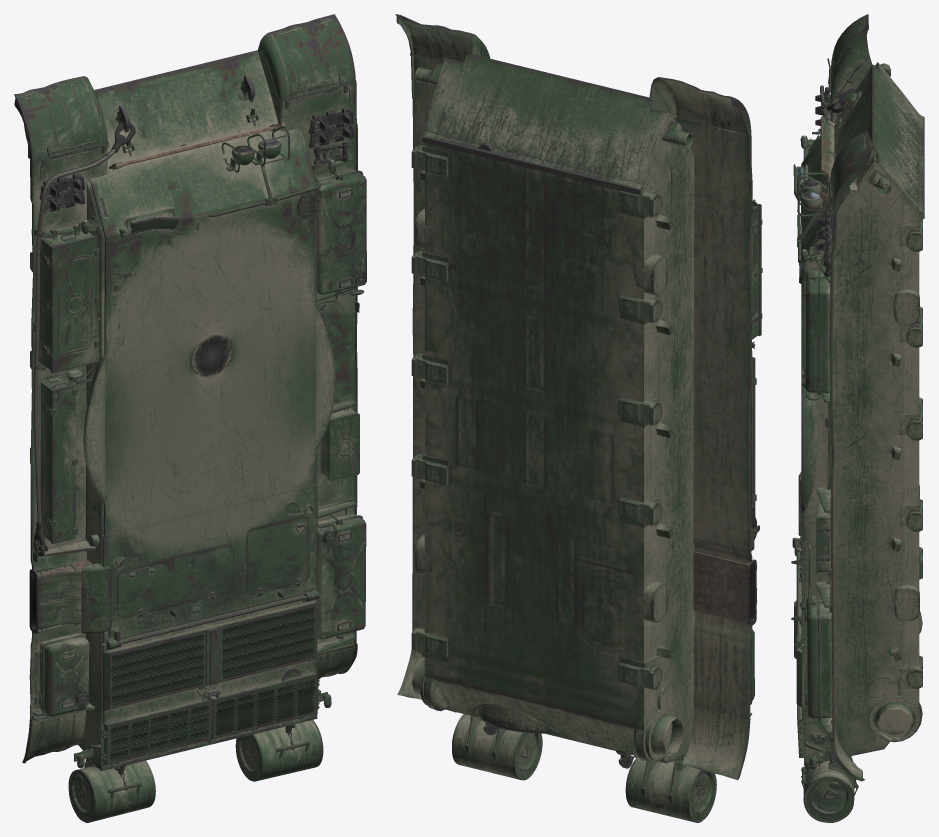
Rendered from Hull.glb.
3 views of the same model, side by side, from view 1: azimuth 30°, elevation 25°; view 2: azimuth 150°, elevation 25°; view 3: azimuth 270°, elevation 25° (orthographic). The views are drawn at different scales.
Parts seen in each view (by area): view 1: set_0_group_0; view 2: set_0_group_0; view 3: set_0_group_0.
Part boxes in pixels (x1,y1,x2,y2): set_0_group_0: [14, 14, 366, 822]; set_0_group_0: [395, 14, 762, 822]; set_0_group_0: [791, 14, 924, 822].
Bounding box in the file's own units: 2.84 × 6.02 × 1.06.
Materials: 1 (1 with a texture image).
